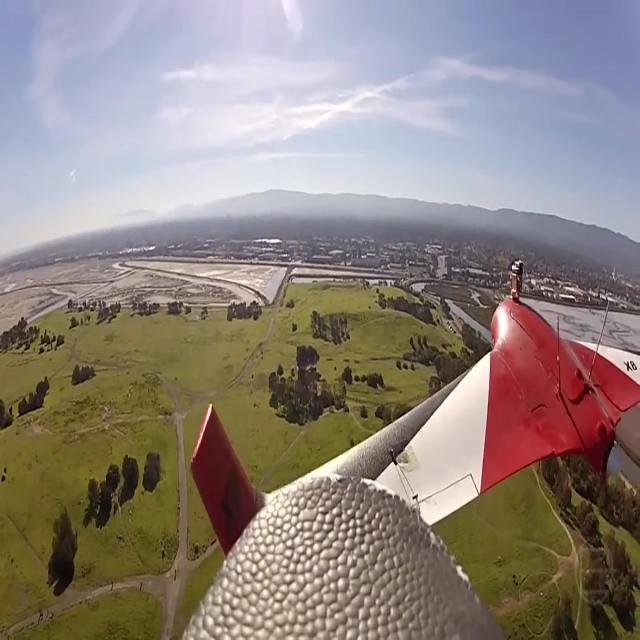iha: (189, 256, 640, 557)
